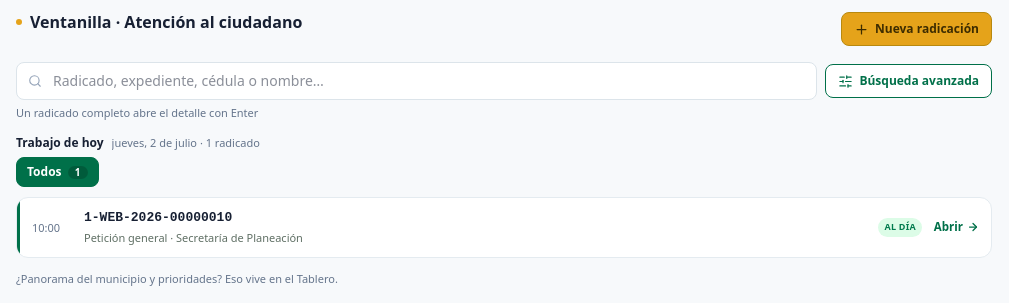
Test: Mostrador — Trabajo de hoy › oculta Trabajo de hoy cuando hay una consulta activa
Step 1. Type "1098" into the search field named "Buscar radicado" → (417, 81), box [16, 62, 817, 100]
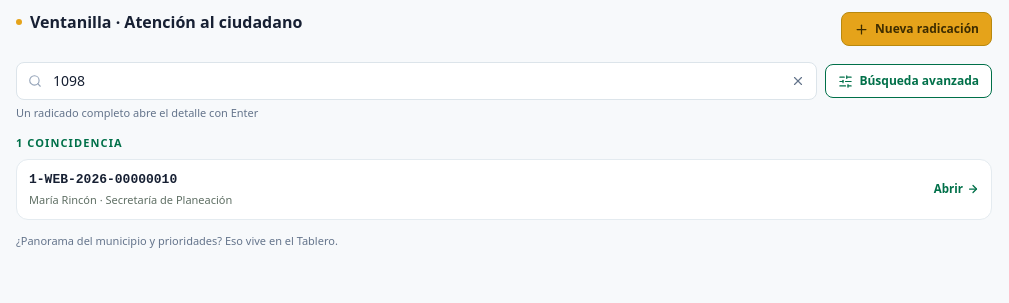
Check: the text "Trabajo de hoy" is gone
Check: the text "1 coincidencia" is shown, box [16, 135, 123, 150]
